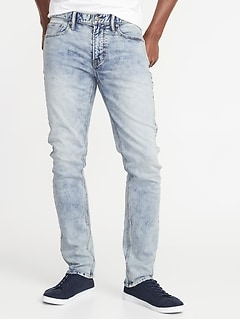jeans: (43, 13, 158, 288)
